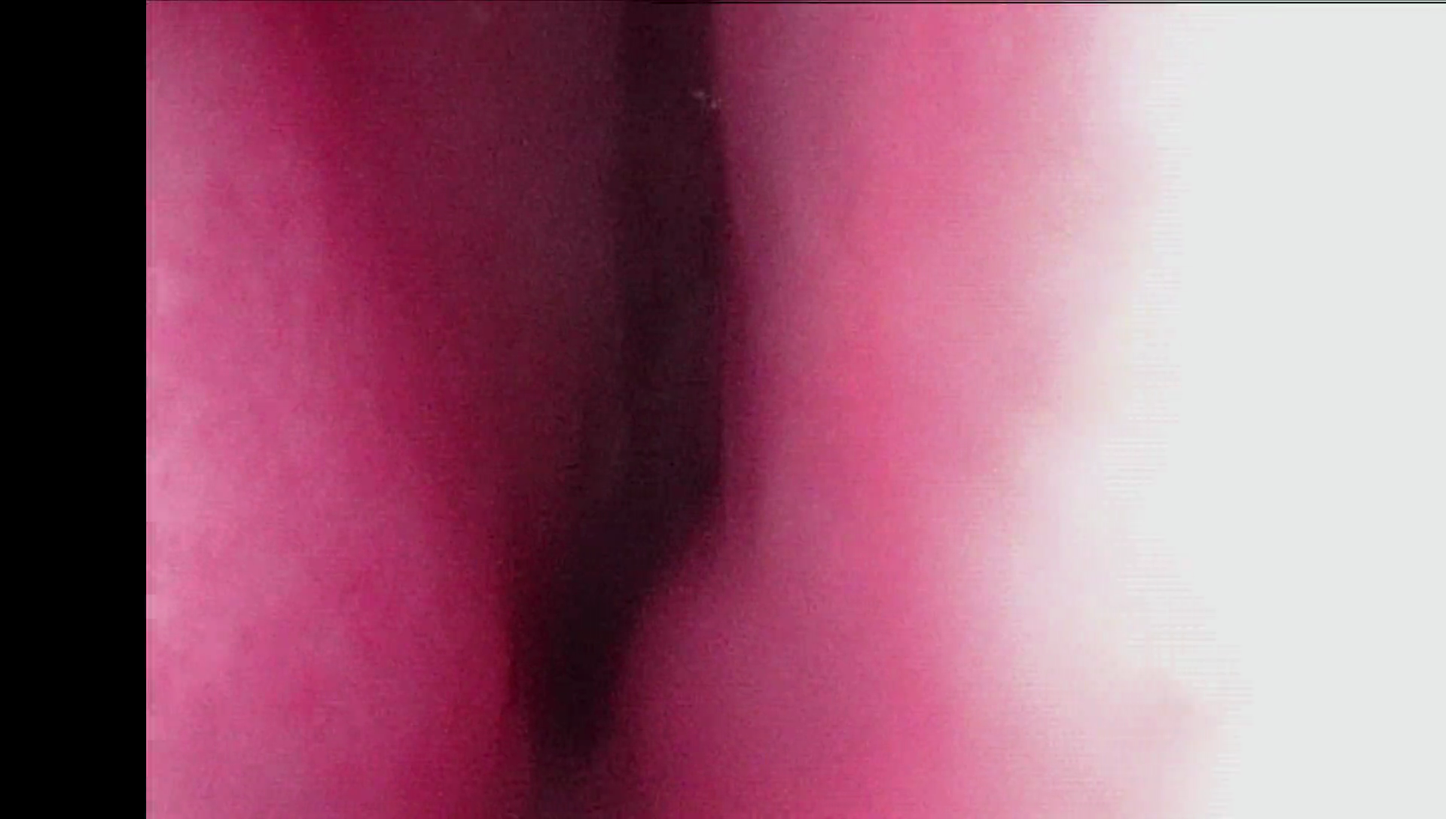close_wall: (839, 10, 1446, 819), (151, 14, 423, 819)
next: (508, 447, 737, 787)
